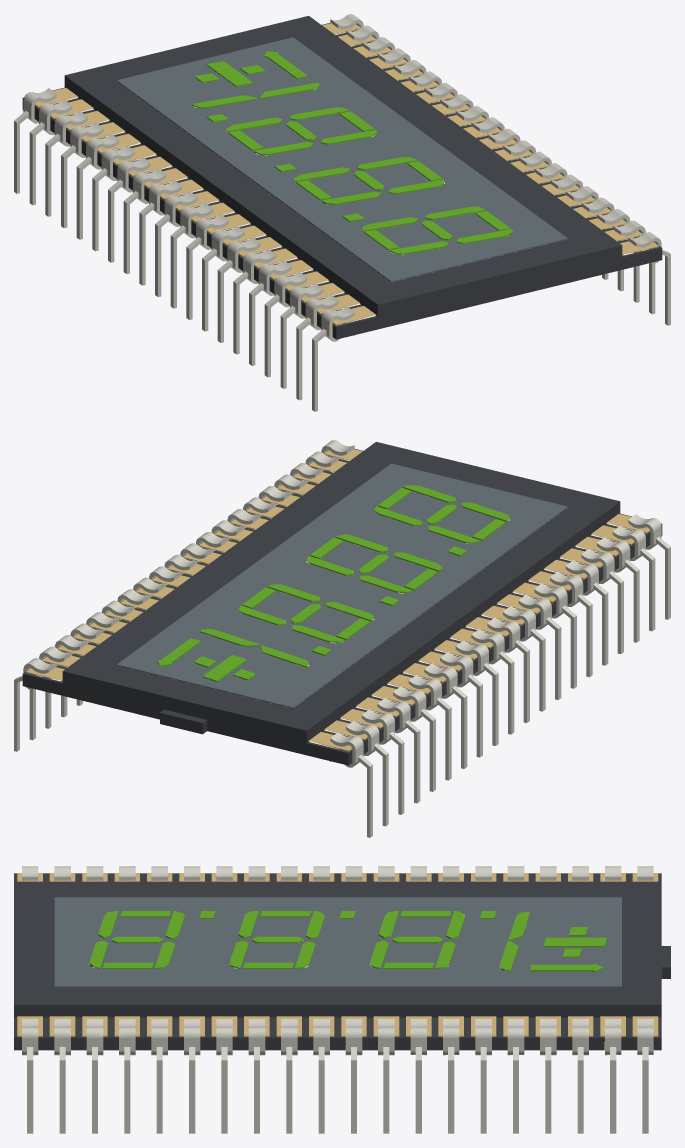
3 views of the same model, one above another, from view 1: azimuth 30°, elevation 25°; view 2: azimuth 150°, elevation 25°; view 3: azimuth 270°, elevation 25° (orthographic). The views are drawn at different scales.
Visible parts, largest first — view 1: 0.08333333333333333_0.08333333333333333_0.08333333333333333_, 0.16666666666666666_0.16666666666666666_0.16666666666666666_, 0.6666666666666666_0.6666666666666666_0.5833333333333334_0.8, 0.75_0.5_0.25_0.9, 0.16666666666666666_0.4166666666666667_0_0; view 2: 0.08333333333333333_0.08333333333333333_0.08333333333333333_, 0.16666666666666666_0.16666666666666666_0.16666666666666666_, 0.6666666666666666_0.6666666666666666_0.5833333333333334_0.8, 0.75_0.5_0.25_0.9, 0.16666666666666666_0.4166666666666667_0_0; view 3: 0.08333333333333333_0.08333333333333333_0.08333333333333333_, 0.16666666666666666_0.16666666666666666_0.16666666666666666_, 0.6666666666666666_0.6666666666666666_0.5833333333333334_0.8, 0.16666666666666666_0.4166666666666667_0_0, 0.75_0.5_0.25_0.9.
Boxes of the visible parts, <box> form: 0.08333333333333333_0.08333333333333333_0.08333333333333333_: <box>22,16,662,339</box>; 0.16666666666666666_0.16666666666666666_0.16666666666666666_: <box>116,37,567,282</box>; 0.6666666666666666_0.6666666666666666_0.5833333333333334_0.8: <box>14,14,670,411</box>; 0.75_0.5_0.25_0.9: <box>35,23,658,325</box>; 0.16666666666666666_0.4166666666666667_0_0: <box>191,51,512,254</box>; 0.08333333333333333_0.08333333333333333_0.08333333333333333_: <box>22,442,662,765</box>; 0.16666666666666666_0.16666666666666666_0.16666666666666666_: <box>116,463,567,708</box>; 0.6666666666666666_0.6666666666666666_0.5833333333333334_0.8: <box>14,440,670,837</box>; 0.75_0.5_0.25_0.9: <box>26,449,649,751</box>; 0.16666666666666666_0.4166666666666667_0_0: <box>157,485,509,681</box>; 0.08333333333333333_0.08333333333333333_0.08333333333333333_: <box>14,873,670,1050</box>; 0.16666666666666666_0.16666666666666666_0.16666666666666666_: <box>54,897,621,987</box>; 0.6666666666666666_0.6666666666666666_0.5833333333333334_0.8: <box>22,866,653,1133</box>; 0.16666666666666666_0.4166666666666667_0_0: <box>89,911,607,972</box>; 0.75_0.5_0.25_0.9: <box>17,873,658,1036</box>.
Size of the model in its own units: 3.33 by 0.8949 by 5.15.
